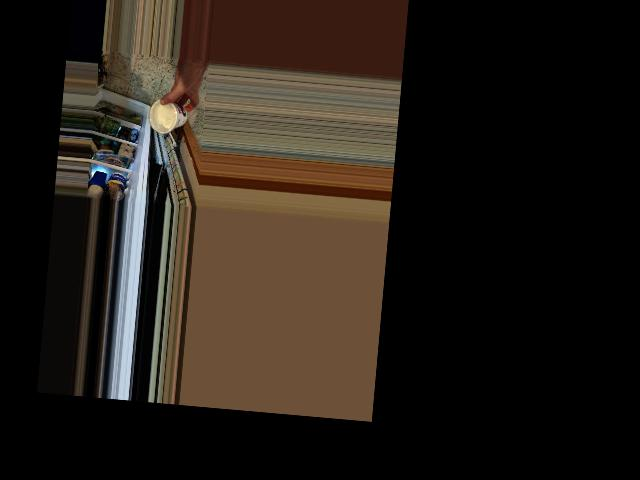cotage: (149, 100, 188, 135)
